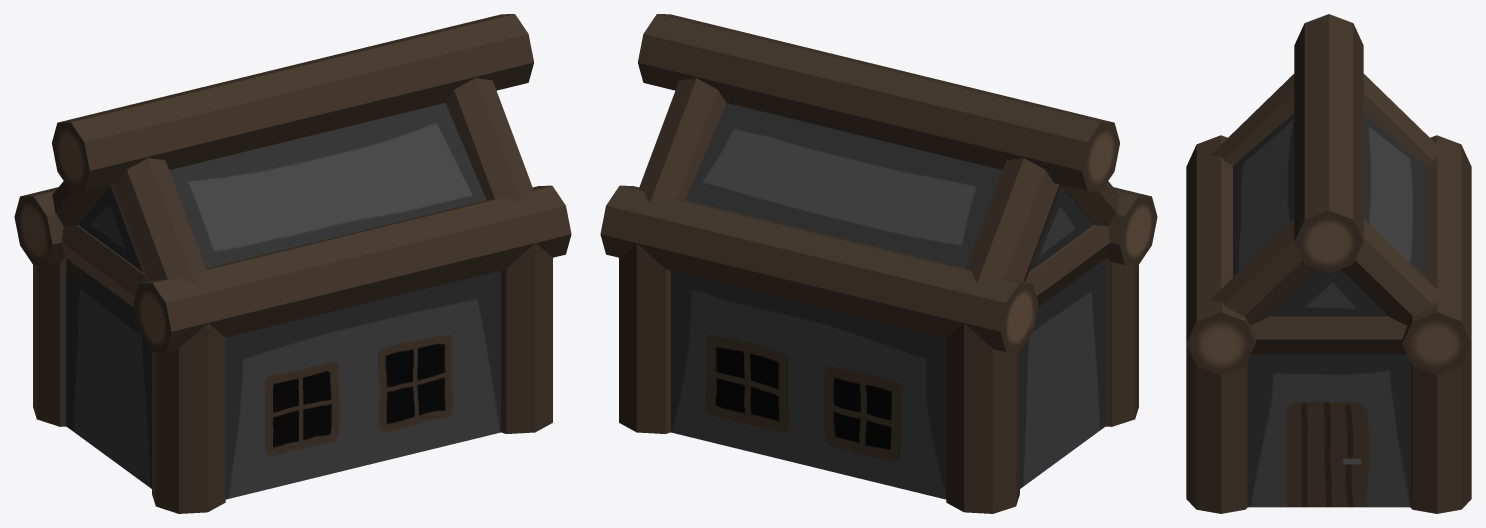
The model's file is domecek.fbx.
3 views of the same model, side by side, from view 1: azimuth 30°, elevation 25°; view 2: azimuth 150°, elevation 25°; view 3: azimuth 270°, elevation 25° (orthographic). The views are drawn at different scales.
Parts seen in each view (by area): view 1: Cube; view 2: Cube; view 3: Cube.
Part boxes in pixels (x1,y1,x2,y2): Cube: (14,14,571,513); Cube: (600,14,1157,513); Cube: (1186,14,1471,513).
Bounding box in the file's own units: 733 × 547 × 449.
1 material, 1 textured.
